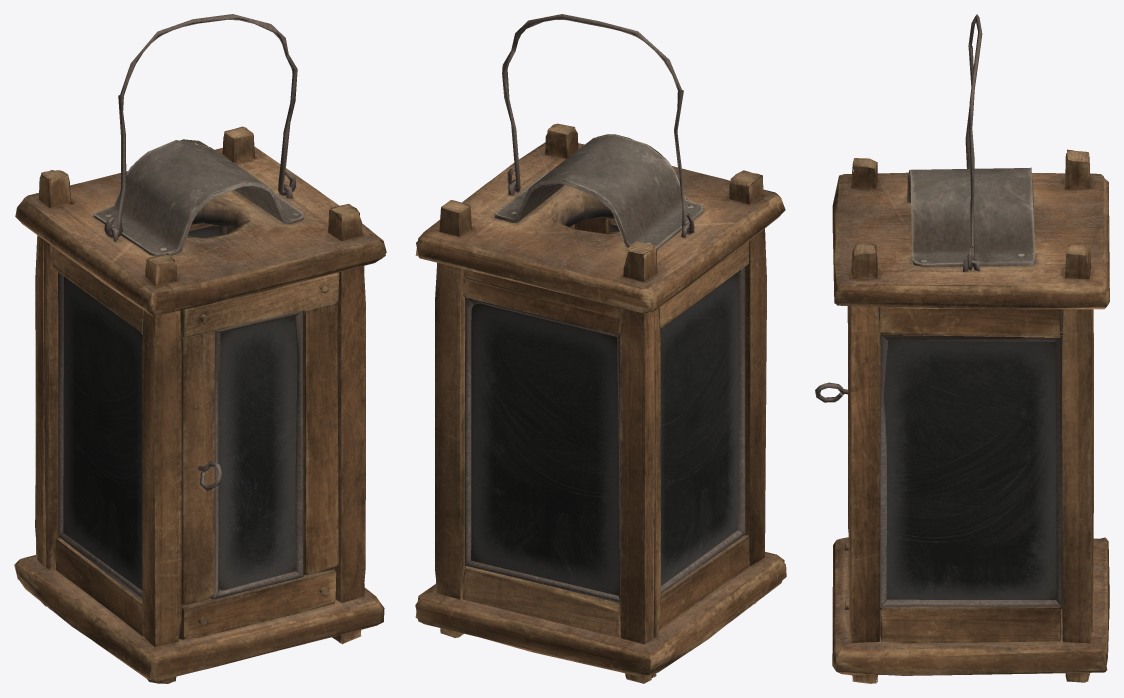
Rendered from wooden_lantern_01.gltf.
3 renders of one model, left to right at view 1: azimuth 30°, elevation 25°; view 2: azimuth 150°, elevation 25°; view 3: azimuth 270°, elevation 25°, orthographic.
Parts seen in each view (by area): view 1: wooden_lantern_01, wooden_lantern_01_door, wooden_lantern_01_handle; view 2: wooden_lantern_01, wooden_lantern_01_handle, wooden_lantern_01_door; view 3: wooden_lantern_01, wooden_lantern_01_handle, wooden_lantern_01_door.
Part boxes in pixels (bbox=[...]): wooden_lantern_01: bbox=[14, 126, 386, 683]; wooden_lantern_01_door: bbox=[179, 272, 339, 639]; wooden_lantern_01_handle: bbox=[104, 14, 297, 238]; wooden_lantern_01: bbox=[415, 123, 786, 683]; wooden_lantern_01_handle: bbox=[502, 14, 694, 234]; wooden_lantern_01_door: bbox=[574, 217, 619, 233]; wooden_lantern_01: bbox=[832, 149, 1109, 683]; wooden_lantern_01_handle: bbox=[965, 14, 982, 270]; wooden_lantern_01_door: bbox=[815, 306, 849, 610].
Size of the model in its own units: 0.2212 by 0.5289 by 0.2342.
Materials: 2 (2 with a texture image).
